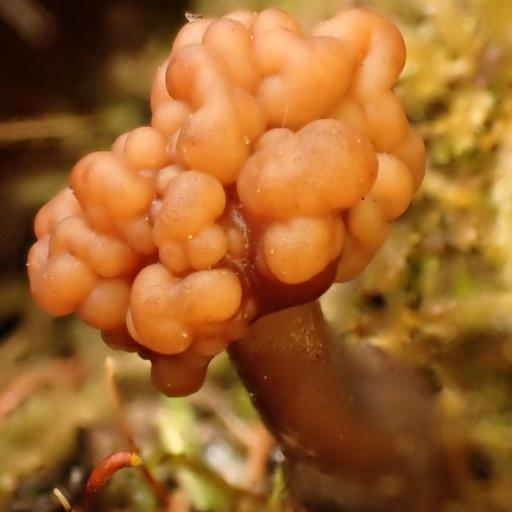mushroom: (16, 0, 450, 462)
